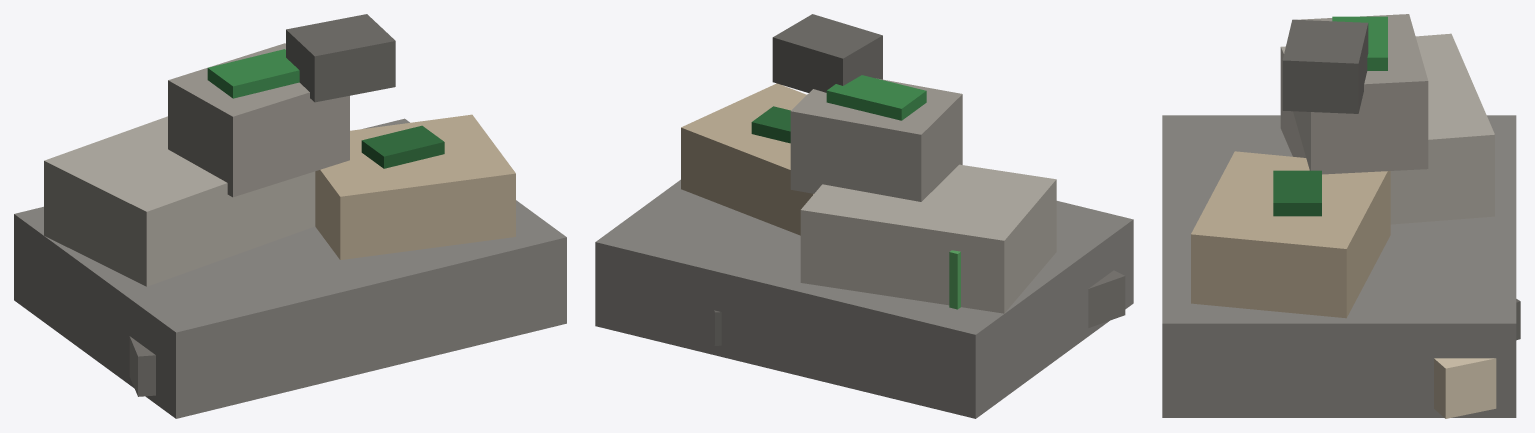
The model's file is vn_rock_medium.glb.
The picture shows the model from 3 angles, left to right: view 1: azimuth 30°, elevation 25°; view 2: azimuth 150°, elevation 25°; view 3: azimuth 270°, elevation 25°; orthographic projection. The views are drawn at different scales.
Visible parts, largest first — view 1: rock_medium; view 2: rock_medium; view 3: rock_medium.
Part boxes in pixels (x1,y1,x2,y2): rock_medium: (14,14,566,418); rock_medium: (595,14,1133,418); rock_medium: (1162,14,1520,418).
Bounding box in the file's own units: 1.54 × 0.94 × 1.03.
